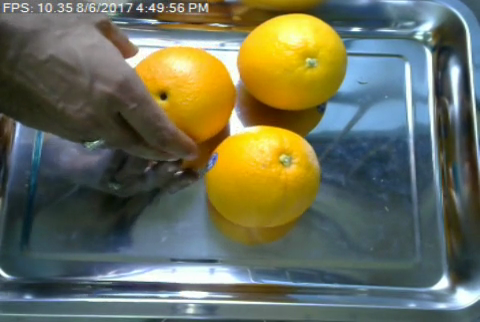Orange: (205, 125, 322, 228), (237, 12, 349, 111), (129, 46, 234, 146)
